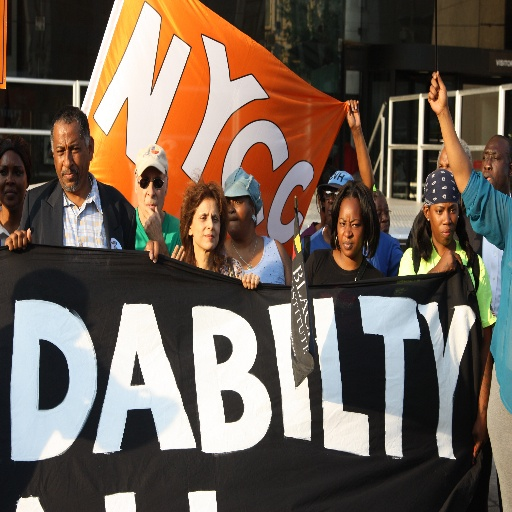hand: (430, 63, 462, 125), (136, 196, 162, 244), (1, 226, 35, 254), (434, 246, 463, 271), (472, 413, 488, 458), (344, 97, 363, 133), (143, 237, 159, 266), (239, 270, 259, 292), (169, 243, 187, 261)
